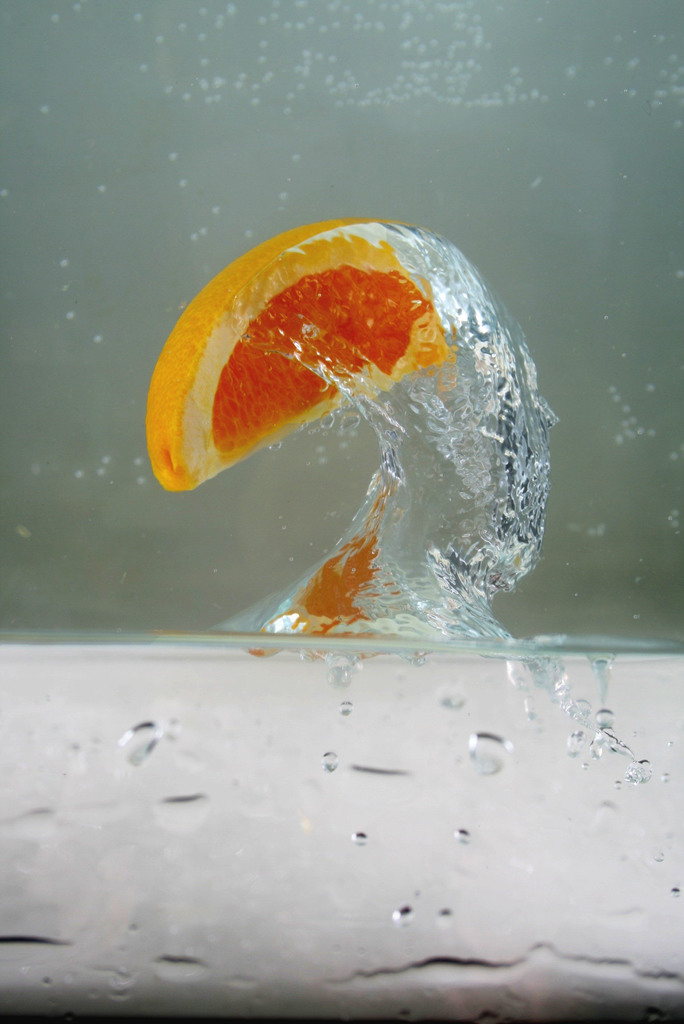Ripe: (151, 205, 471, 483)
